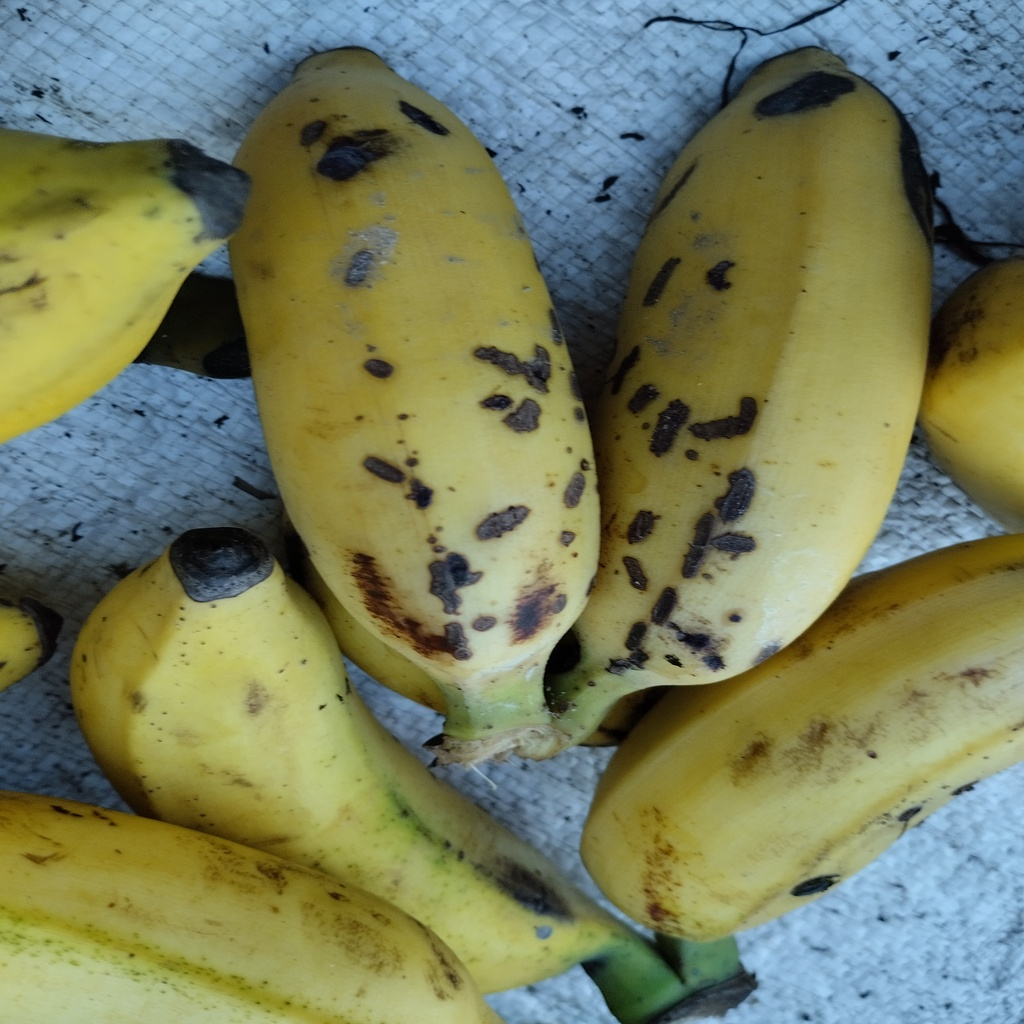unhealthy: (231, 50, 603, 679), (582, 48, 930, 685)
